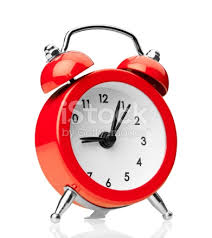alarm_clock: (34, 28, 180, 222), (41, 28, 180, 222)
